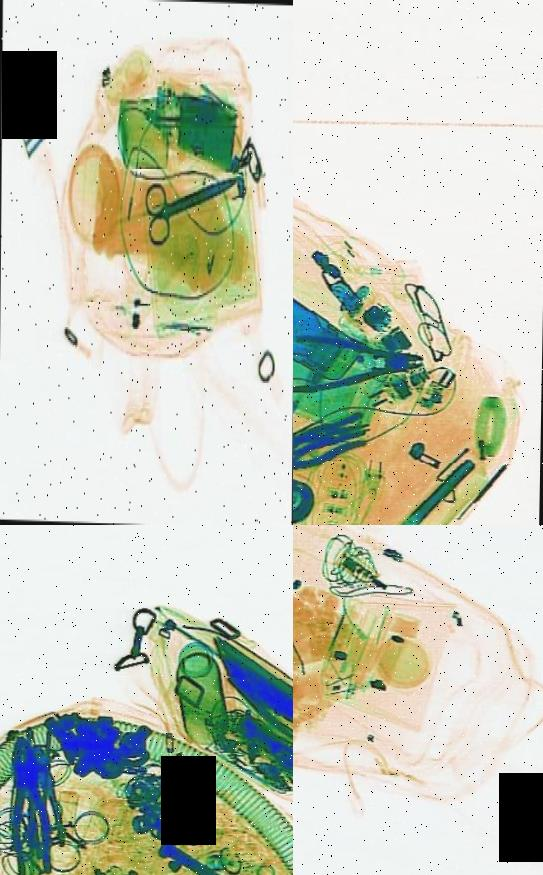Pliers: (293, 327, 424, 392), (0, 729, 57, 875), (293, 403, 371, 498), (20, 738, 69, 854), (293, 407, 368, 473)
Scissors: (142, 145, 242, 251)
